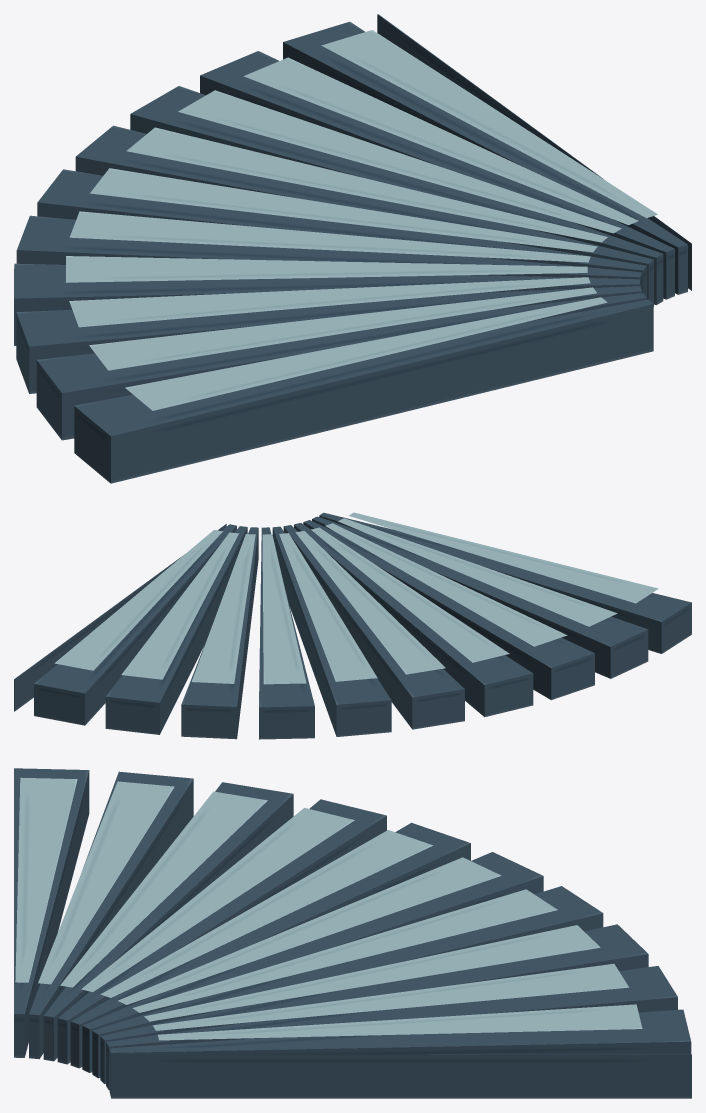
The model's file is sc_tread_curve_right_7.obj.
3 renders of one model, top to bottom at view 1: azimuth 30°, elevation 25°; view 2: azimuth 150°, elevation 25°; view 3: azimuth 270°, elevation 25°, orthographic. The views are drawn at different scales.
Bounding box in the file's own units: 17.5 × 1.56 × 17.5.
Materials: 1 (1 with a texture image).
